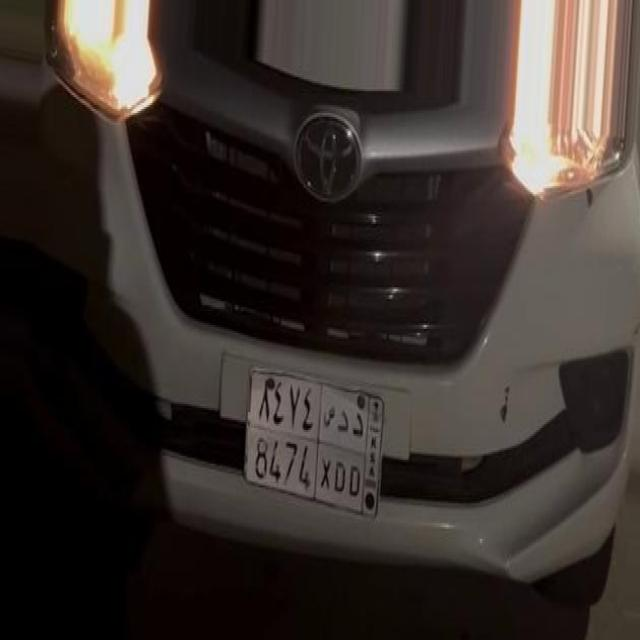Car-plate: (238, 340, 394, 538)
